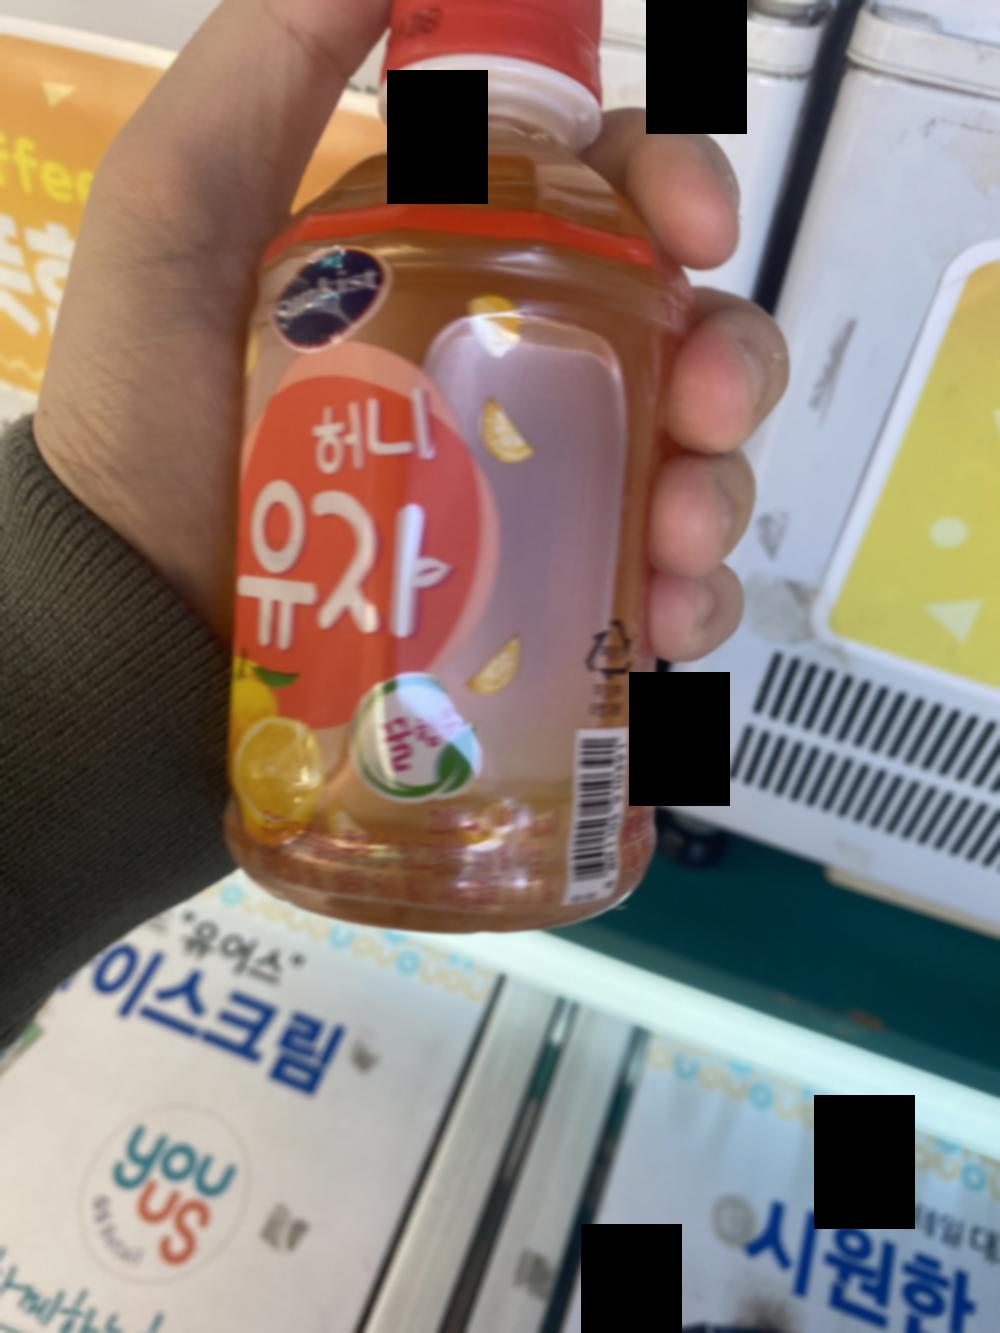honeyyuja: (225, 0, 673, 920)
